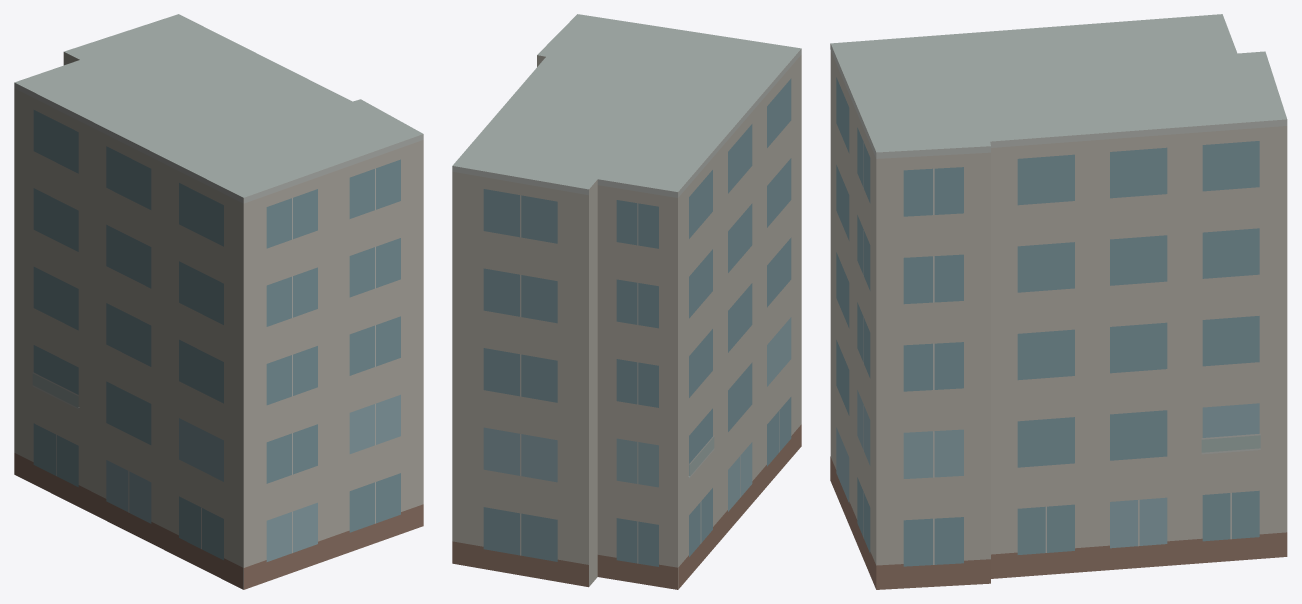
File: survey-upis-32839293.glb
3 renders of one model, left to right at view 1: azimuth 30°, elevation 25°; view 2: azimuth 150°, elevation 25°; view 3: azimuth 270°, elevation 25°, orthographic. The views are drawn at different scales.
Parts seen in each view (by area): view 1: survey-upis-32839293.tmp; view 2: survey-upis-32839293.tmp; view 3: survey-upis-32839293.tmp.
Part boxes in pixels (x1=…): survey-upis-32839293.tmp: x1=14, y1=14, x2=423, y2=589; survey-upis-32839293.tmp: x1=452, y1=14, x2=801, y2=589; survey-upis-32839293.tmp: x1=830, y1=14, x2=1287, y2=589.
Bounding box in the file's own units: 11.25 × 16.55 × 15.67.
